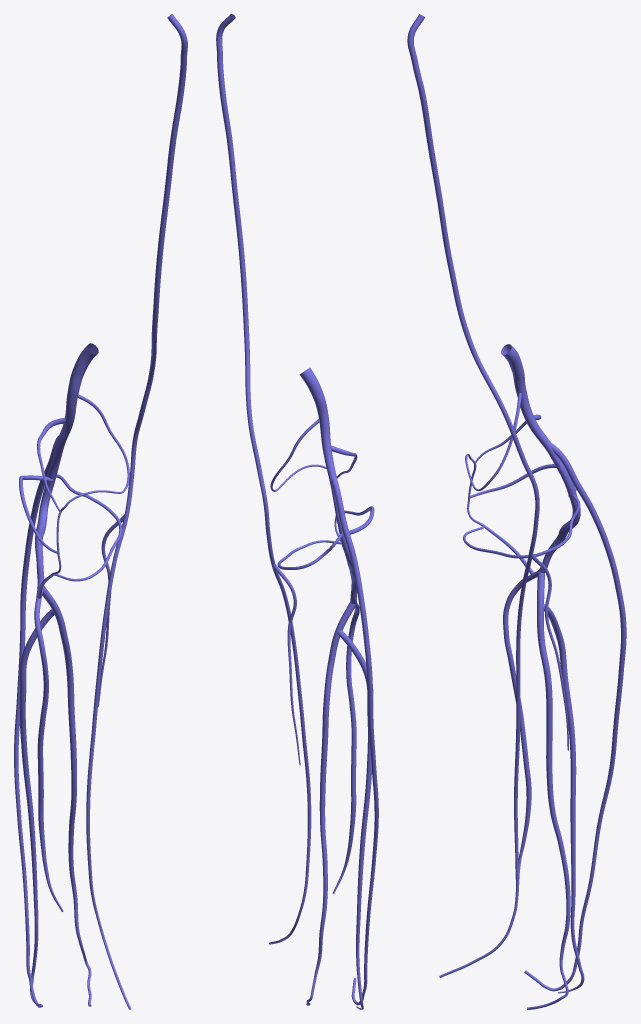
The model's file is veins.glb.
3 views of the same model, side by side, from view 1: azimuth 30°, elevation 25°; view 2: azimuth 210°, elevation 25°; view 3: azimuth 270°, elevation 25° (orthographic). The views are drawn at different scales.
Visible parts, largest first — view 1: Great saphenous vein.r, Small saphenous vein.r, Posterior tibial veins.r, Genicular veins.r, Fibular veins.r, Anterior tibial veins.r, Popliteal vein.r; view 2: Great saphenous vein.r, Small saphenous vein.r, Posterior tibial veins.r, Fibular veins.r, Anterior tibial veins.r, Popliteal vein.r, Genicular veins.r; view 3: Great saphenous vein.r, Small saphenous vein.r, Posterior tibial veins.r, Fibular veins.r, Genicular veins.r, Popliteal vein.r, Anterior tibial veins.r.
Part boxes in pixels (<box>): Great saphenous vein.r: <box>86,14,187,1009</box>; Small saphenous vein.r: <box>14,435,58,1007</box>; Posterior tibial veins.r: <box>42,586,91,1006</box>; Genicular veins.r: <box>19,394,129,598</box>; Fibular veins.r: <box>19,609,54,1003</box>; Anterior tibial veins.r: <box>34,532,63,911</box>; Popliteal vein.r: <box>36,343,98,533</box>; Great saphenous vein.r: <box>216,14,311,944</box>; Small saphenous vein.r: <box>331,477,378,1005</box>; Posterior tibial veins.r: <box>306,602,356,1005</box>; Fibular veins.r: <box>337,630,373,1009</box>; Anterior tibial veins.r: <box>332,574,359,893</box>; Popliteal vein.r: <box>299,367,353,574</box>; Genicular veins.r: <box>270,419,374,600</box>; Great saphenous vein.r: <box>407,14,568,977</box>; Small saphenous vein.r: <box>524,443,626,991</box>; Posterior tibial veins.r: <box>527,571,570,1009</box>; Fibular veins.r: <box>542,604,584,993</box>; Genicular veins.r: <box>463,392,580,575</box>; Popliteal vein.r: <box>501,344,580,536</box>; Anterior tibial veins.r: <box>503,534,565,884</box>.
Size of the model in its own units: 0.1018 by 0.8222 by 0.1617.
